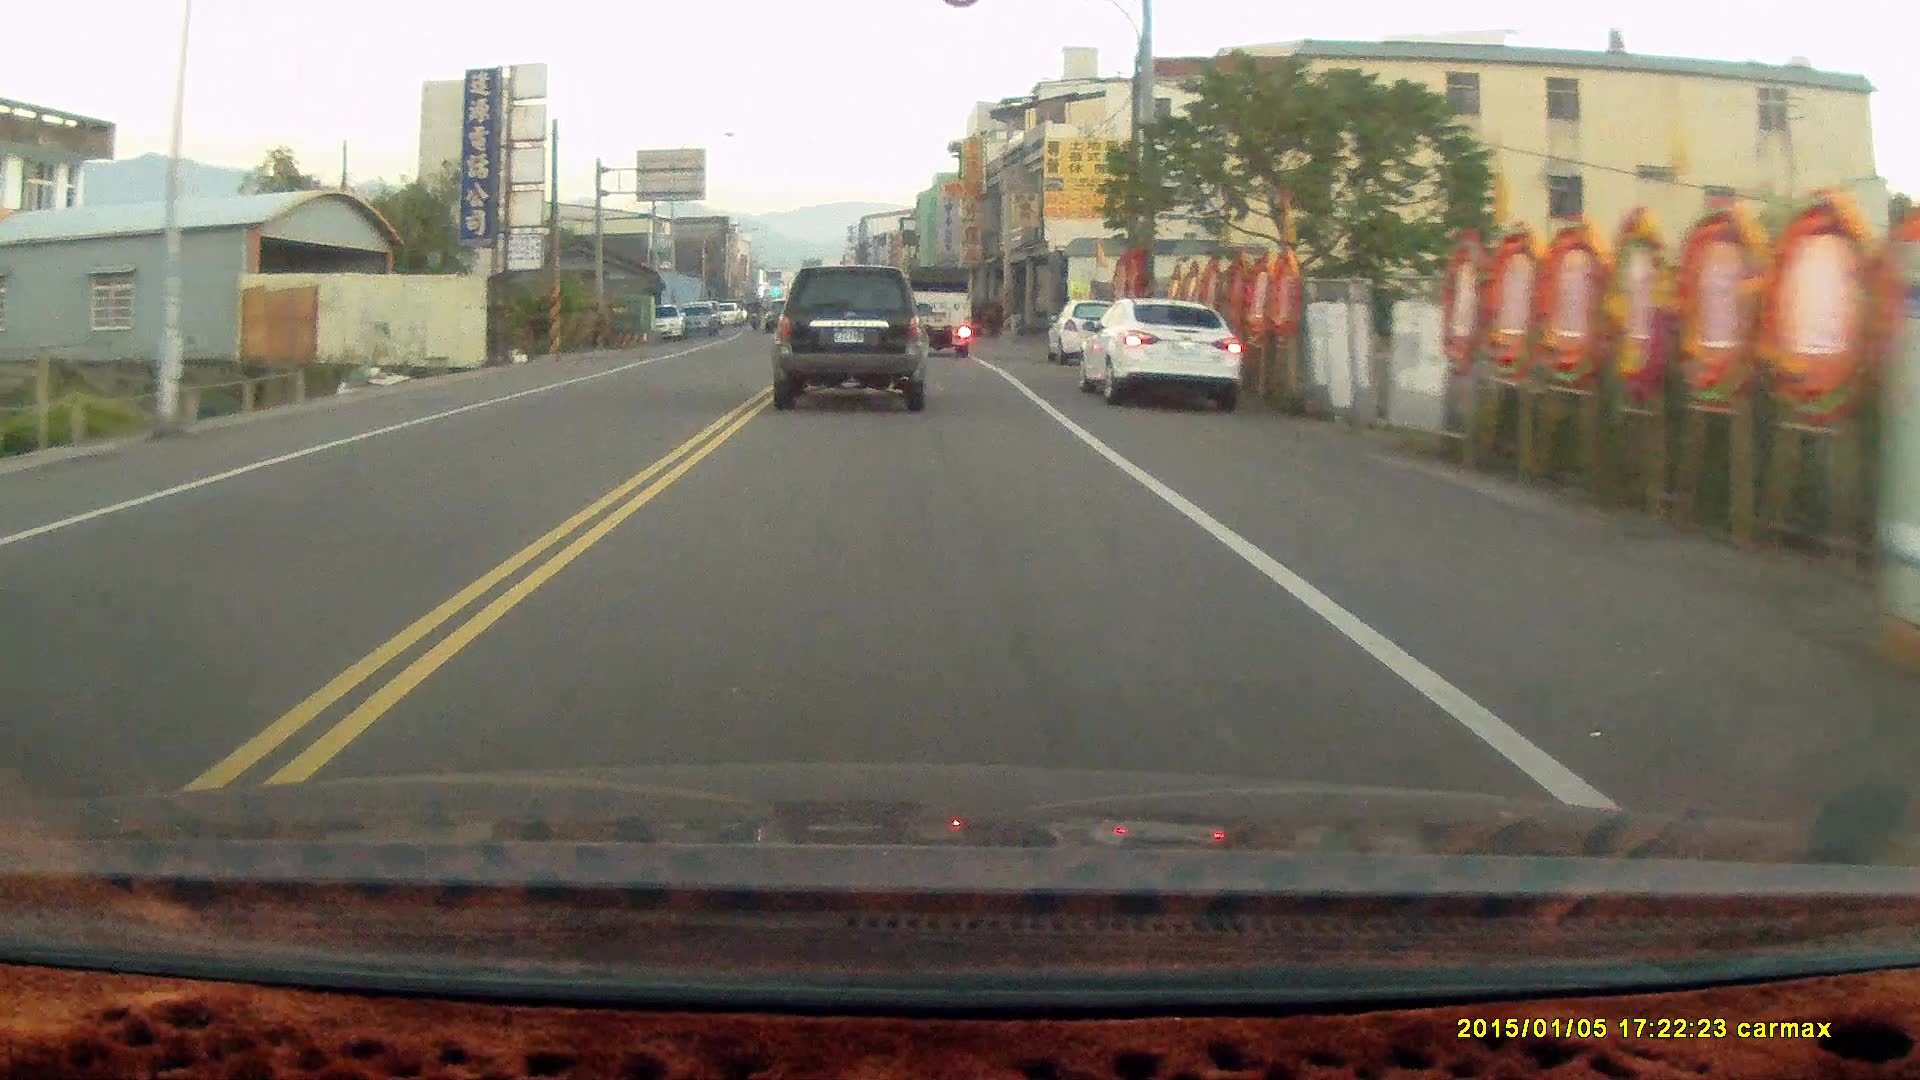vehicle: (771, 261, 934, 411), (1079, 291, 1242, 407), (901, 262, 977, 357), (1044, 297, 1139, 364)
